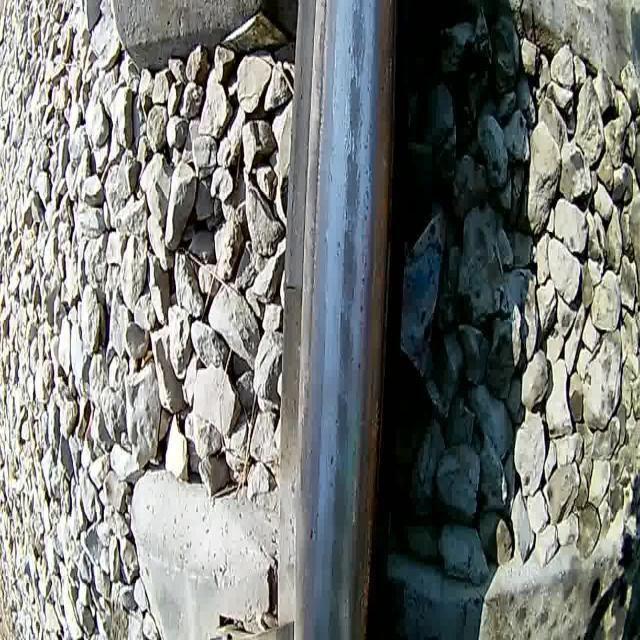Cracks: (354, 85, 368, 148), (348, 100, 358, 172), (350, 36, 360, 96)
Squats: (338, 223, 362, 306), (345, 0, 370, 78), (334, 302, 356, 389), (342, 70, 365, 147), (328, 464, 352, 536), (331, 389, 352, 469), (324, 533, 348, 601), (342, 148, 364, 222), (323, 589, 344, 640)
